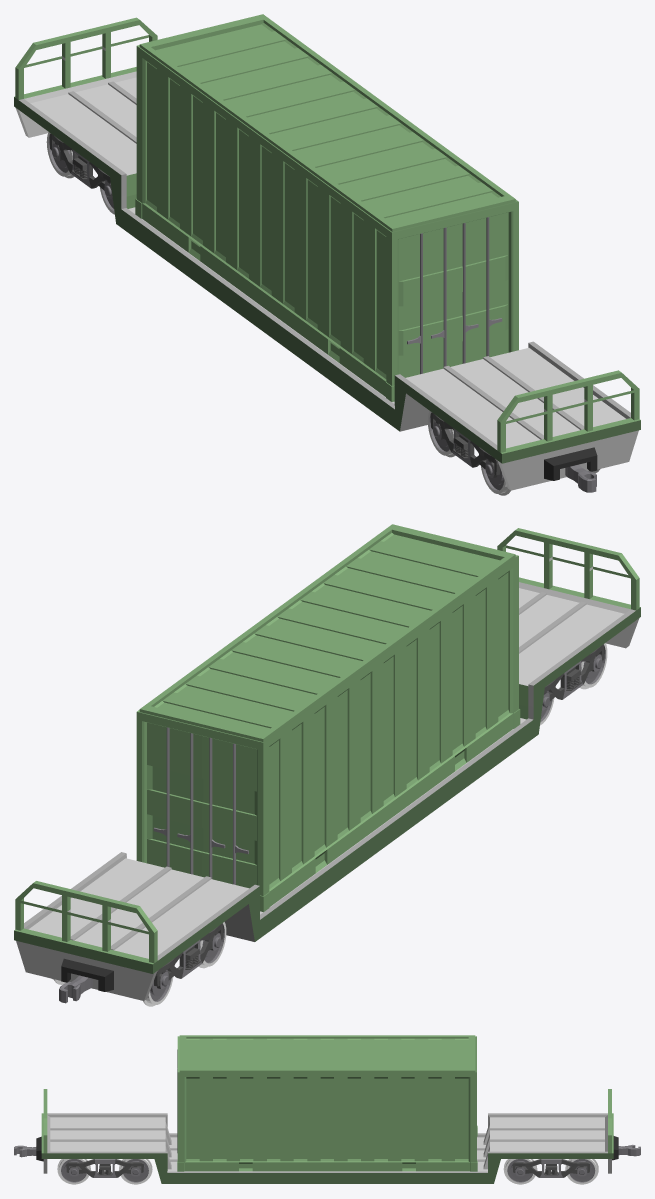
The model's file is Transporter car.fbx.
3 views of the same model, one above another, from view 1: azimuth 30°, elevation 25°; view 2: azimuth 150°, elevation 25°; view 3: azimuth 270°, elevation 25° (orthographic). The views are drawn at different scales.
Visible parts, largest first — view 1: Container, Body, Coupling, Cart.001, Cart.002; view 2: Container, Body, Coupling.001, Cart.002, Cart.001; view 3: Container, Body, Cart.002, Cart.001, Cylinder.001, Cylinder, Cylinder.003, Cylinder.002, Coupling, Coupling.001.
Part boxes in pixels (x1=…): Container: x1=135, y1=14, x2=518, y2=401; Body: x1=14, y1=17, x2=640, y2=490; Coupling: x1=544, y1=447, x2=597, y2=492; Cart.001: x1=430, y1=412, x2=499, y2=477; Cart.002: x1=49, y1=134, x2=112, y2=199; Container: x1=136, y1=524, x2=520, y2=912; Body: x1=14, y1=528, x2=640, y2=1000; Coupling.001: x1=59, y1=958, x2=113, y2=1003; Cart.002: x1=154, y1=924, x2=223, y2=988; Cart.001: x1=542, y1=645, x2=604, y2=710; Container: x1=177, y1=1035, x2=477, y2=1171; Body: x1=41, y1=1089, x2=613, y2=1183; Cart.002: x1=512, y1=1159, x2=590, y2=1177; Cart.001: x1=66, y1=1159, x2=143, y2=1177; Cylinder.001: x1=119, y1=1159, x2=152, y2=1184; Cylinder: x1=57, y1=1159, x2=90, y2=1184; Cylinder.003: x1=565, y1=1159, x2=598, y2=1184; Cylinder.002: x1=503, y1=1159, x2=537, y2=1184; Coupling: x1=14, y1=1136, x2=43, y2=1161; Coupling.001: x1=612, y1=1136, x2=640, y2=1160.
Bounding box in the file's own units: 155 × 216 × 1034.
